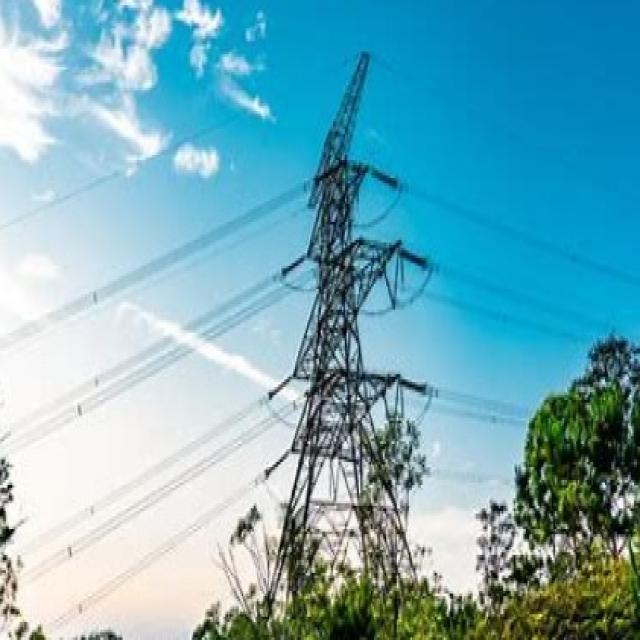utility poles: (327, 347, 449, 564), (493, 305, 616, 508)
